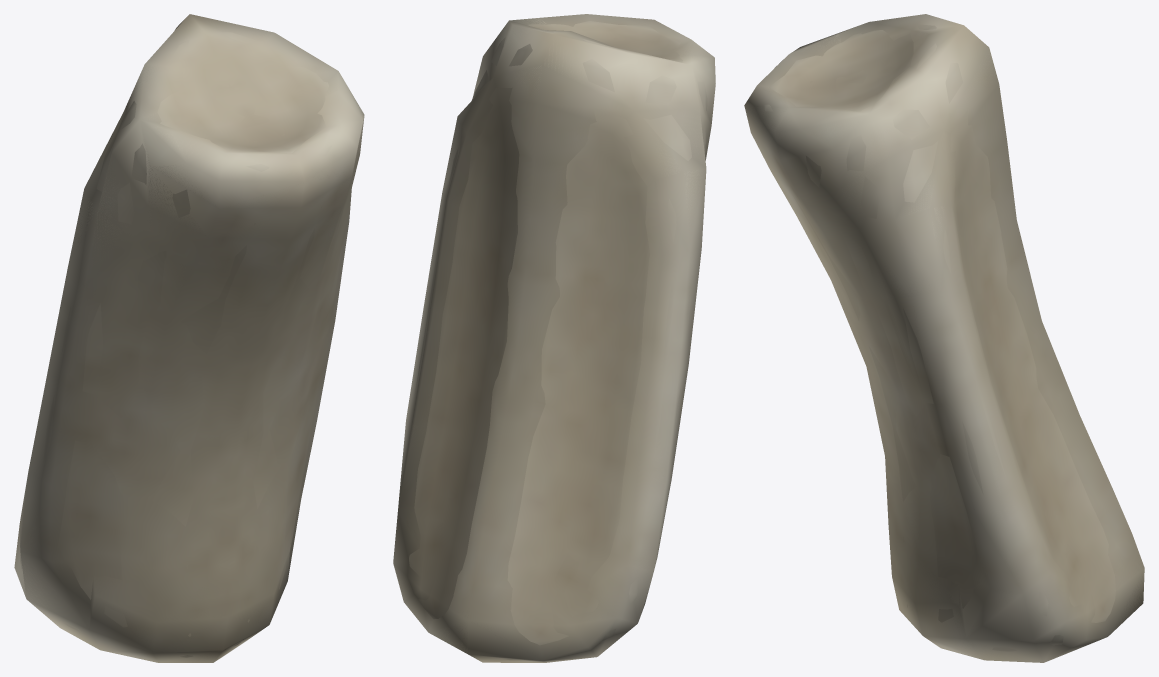
Rendered from vertebrae caudales 09.fbx.
3 views of the same model, side by side, from view 1: azimuth 30°, elevation 25°; view 2: azimuth 150°, elevation 25°; view 3: azimuth 270°, elevation 25° (orthographic). The views are drawn at different scales.
Visible parts, largest first — view 1: vertebrae caudales 09, vertebrae caudales 09 high, vertebrae caudales 09 low; view 2: vertebrae caudales 09, vertebrae caudales 09 high, vertebrae caudales 09 low; view 3: vertebrae caudales 09, vertebrae caudales 09 high, vertebrae caudales 09 low.
Part boxes in pixels (x1,y1,x2,y2): vertebrae caudales 09: (14,14,364,662); vertebrae caudales 09 high: (20,32,343,657); vertebrae caudales 09 low: (20,15,364,662); vertebrae caudales 09: (393,14,715,662); vertebrae caudales 09 high: (409,21,707,660); vertebrae caudales 09 low: (395,14,715,662); vertebrae caudales 09: (744,14,1144,662); vertebrae caudales 09 high: (764,24,1115,652); vertebrae caudales 09 low: (745,15,1144,661).
Size of the model in its own units: 0.7417 by 1.59 by 0.952.
1 material, 1 textured.
